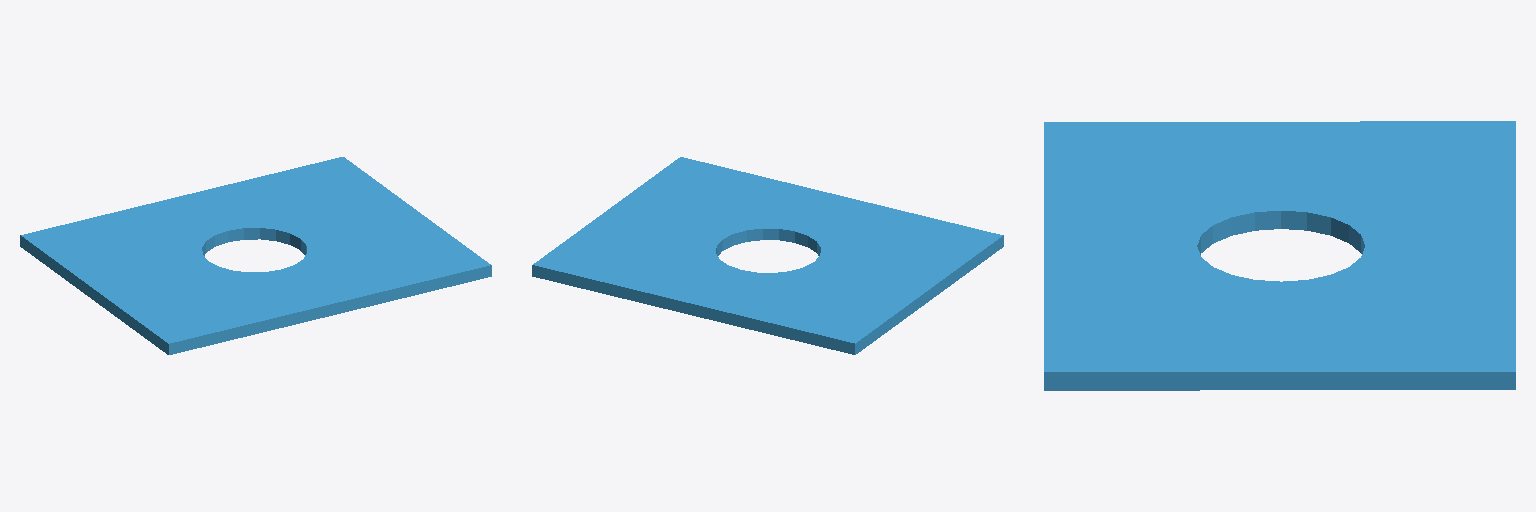
The robot description file, URDF, robot "wall":
<?xml version="1.0"?>
<robot name="wall">
    <link name="world" />
    <link name="body">
        <inertial>
            <mass value="1.0" />
            <origin xyz="0 0 0" rpy="0 0 0" />
            <inertia ixx="1.0" ixy="0" ixz="0" iyy="1.0" iyz="0" izz="1.0" />
        </inertial>
        <visual>
            <origin xyz="0 0 0" rpy="-1.57 -0 0" />
            <geometry>
                <mesh filename="wall.STL" scale="0.03 0.03 0.03" />
            </geometry>
        </visual>
        <collision group="default">
            <origin xyz="0 0 0" rpy="-1.57 -0 0" />
            <geometry>
                <mesh filename="wall.STL" scale="0.03 0.03 0.03" />
            </geometry>
        </collision>
    </link>
    <joint name="joint" type="fixed">
        <origin xyz="0 0 5" rpy="0 0 0" />
        <parent link="world" />
        <child link="body" />
    </joint>
</robot>

--- Facts derived from the render (not from the file) ---
Views: 3 orthographic renders of the robot side by side, from view 1: azimuth 30°, elevation 25°; view 2: azimuth 150°, elevation 25°; view 3: azimuth 270°, elevation 25°.
Robot: wall — 2 links, 1 joints (1 fixed); root link world; default pose: all joints at 0.
Visible links, largest first — view 1: body; view 2: body; view 3: body.
Boxes of the visible links, x1,y1,x2,y2 form: body: (20, 157, 491, 354); body: (532, 157, 1003, 354); body: (1044, 121, 1515, 390).
Bounding box of the posed robot: 16.5 × 13.12 × 0.578 m (x, y, z).
Meshes: 1 distinct files referenced, 1 mesh visuals loaded (1 binary STL).